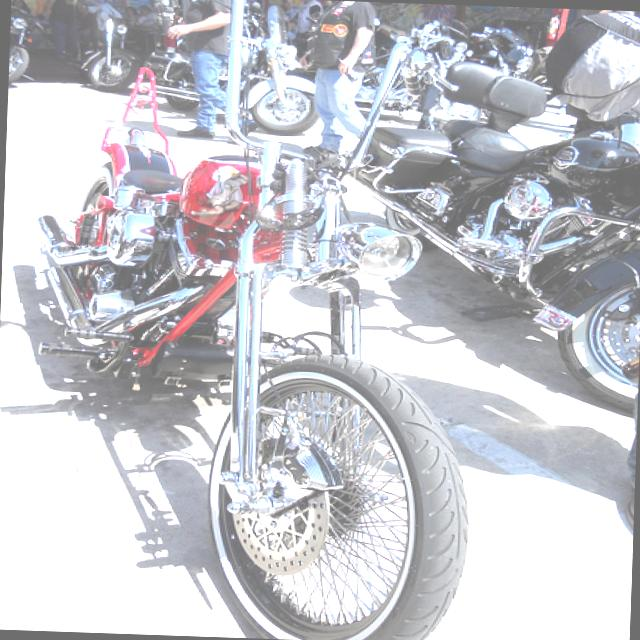Vehicle: (20, 0, 482, 597), (370, 2, 640, 404), (240, 4, 322, 138), (55, 0, 143, 92), (8, 0, 47, 89), (463, 27, 533, 75)
